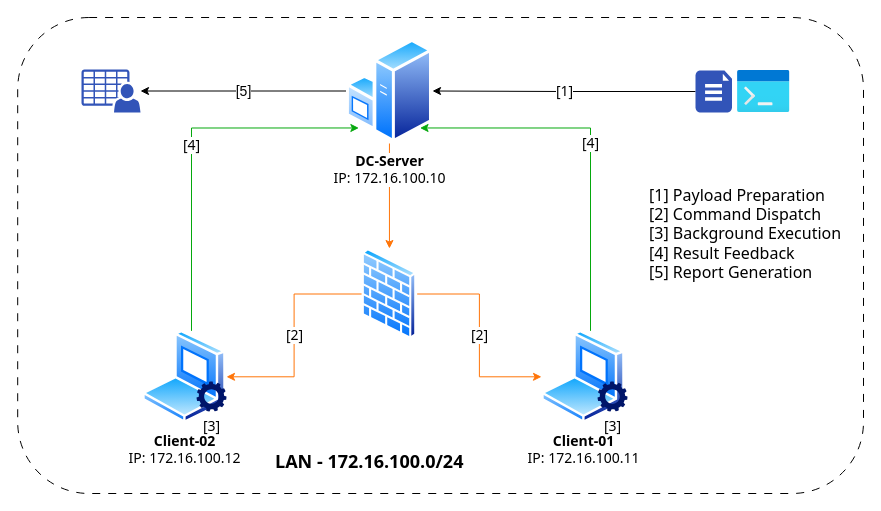
This 881x511 diagram has some shape labels left out. Each missing label, with the box of its shape:
CIS_Rules_DB.json + Pw_script: (695, 70, 732, 112)
Compliance_Report.csv: (81, 69, 140, 112)
WinRM Port: 5985 (HTTP): (361, 248, 417, 339)
